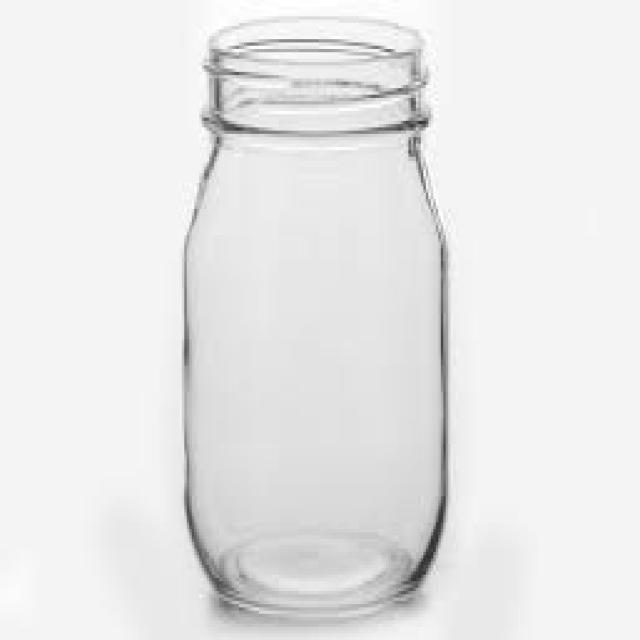glass: (185, 17, 444, 608)
